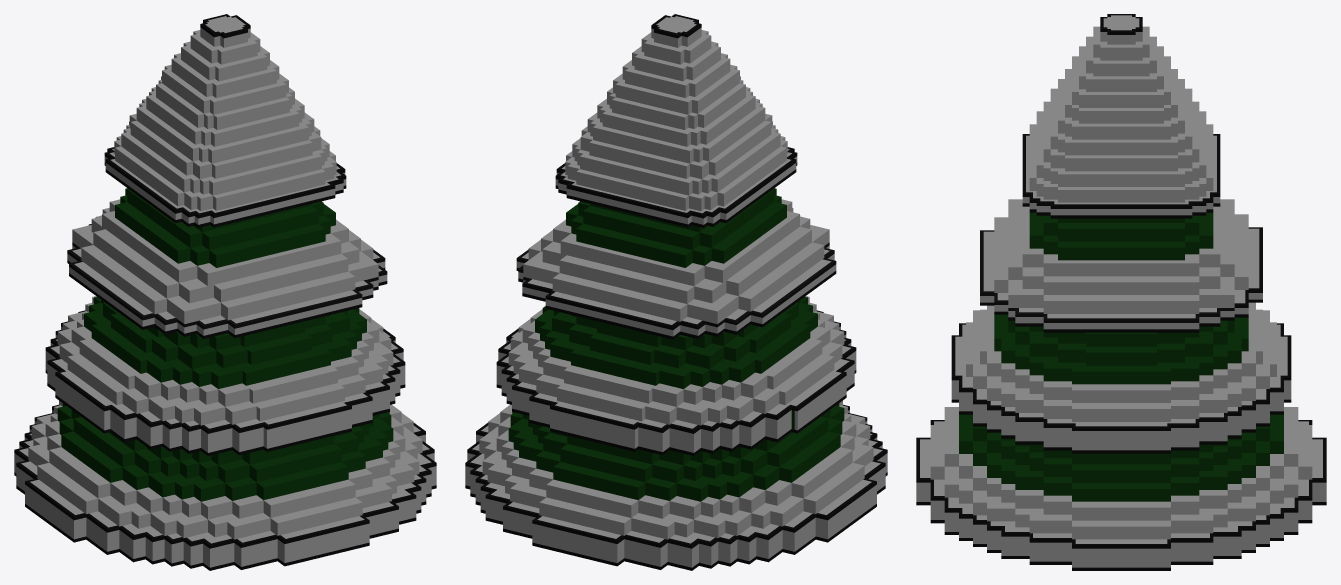
File: WinterGame-4.obj
The picture shows the model from 3 angles, left to right: view 1: azimuth 30°, elevation 25°; view 2: azimuth 150°, elevation 25°; view 3: azimuth 270°, elevation 25°; orthographic projection.
Bounding box in the file's own units: 11.6 × 16.1 × 11.6.
1 material, 1 textured.
